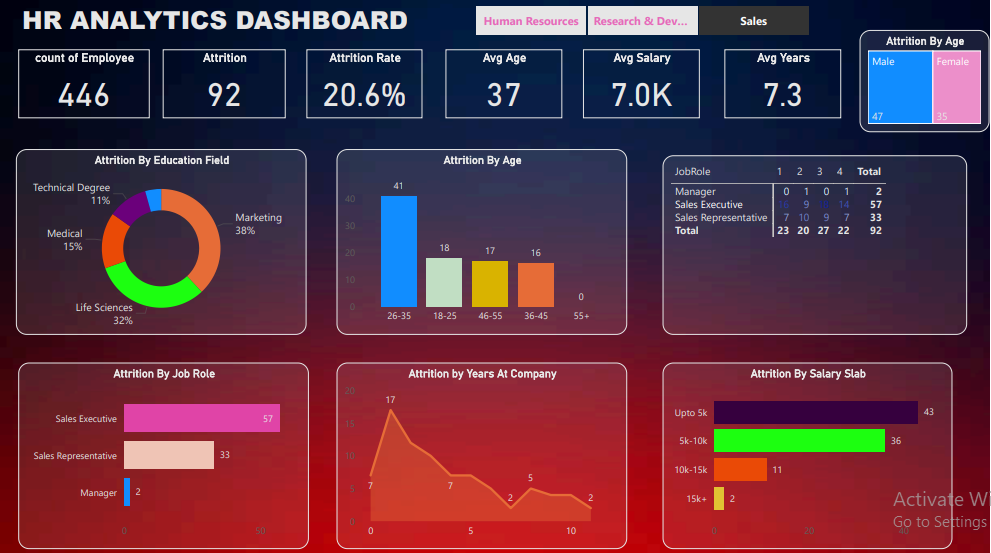

The page's visual inventory and layout, read from the dashboard file:
{"tool":"powerbi","page":{"name":"Page 1","canvas":[1280,720],"ordinal":0},"visuals":[{"type":"card","title":"count of Employee","fields":{"Values":["CountNonNull(HR_Analytics.EmpID)"]},"box":[23.1,67.2,169.7,89],"z":0},{"type":"card","title":"Attrition","fields":{"Values":["Sum(HR_Analytics.AttritionCount)"]},"box":[209.6,67.2,159.6,89],"z":1000},{"type":"card","title":"Attrition Rate","fields":{"Values":["HR_Analytics.AttritionRate"]},"box":[396,67.2,149.5,89],"z":2000},{"type":"card","title":"Avg Age","fields":{"Values":["Avg(HR_Analytics.Age)"]},"box":[575.7,67.2,151.2,89],"z":3000},{"type":"card","title":"Avg Years","fields":{"Values":["Avg(HR_Analytics.YearsAtCompany)"]},"box":[936.9,67.2,151.2,89],"z":4000},{"type":"card","title":"Avg Salary","fields":{"Values":["Avg(HR_Analytics.MonthlyIncome)"]},"box":[753.8,67.2,151.2,89],"z":5000},{"type":"donutChart","title":"Attrition By Education Field","fields":{"Category":["HR_Analytics.EducationField"],"Y":["Sum(HR_Analytics.AttritionCount)"]},"box":[20,195.8,375.8,240.5],"z":6000},{"type":"columnChart","title":"Attrition By Age","fields":{"Category":["HR_Analytics.AgeGroup"],"Y":["Sum(HR_Analytics.AttritionCount)"]},"box":[434.9,195.8,375.8,240.5],"z":7000},{"type":"pivotTable","fields":{"Rows":["HR_Analytics.JobRole"],"Columns":["HR_Analytics.JobSatisfaction"],"Values":["Sum(HR_Analytics.AttritionCount)"]},"box":[856.8,204.5,394.6,231.8],"z":8000},{"type":"barChart","title":"Attrition By Job Role","fields":{"Category":["HR_Analytics.JobRole"],"Y":["Sum(HR_Analytics.AttritionCount)"]},"box":[22.9,472.3,375.8,240.5],"z":9000},{"type":"barChart","title":"Attrition By Salary Slab","fields":{"Category":["HR_Analytics.SalarySlab"],"Y":["Sum(HR_Analytics.AttritionCount)"]},"box":[856.6,472.3,375.8,240.5],"z":10000},{"type":"areaChart","title":"Attrition by Years At Company","fields":{"Category":["HR_Analytics.YearsAtCompany"],"Y":["Sum(HR_Analytics.AttritionCount)"]},"box":[434.7,472.3,375.8,240.5],"z":11000},{"type":"treemap","title":"Attrition By Age","fields":{"Group":["HR_Analytics.Gender"],"Values":["Sum(HR_Analytics.AttritionCount)"]},"box":[1111.5,41.8,168.5,132.5],"z":12000},{"type":"slicer","fields":{"Values":["HR_Analytics.Department"]},"box":[586.1,0,485.3,56],"z":13000},{"type":"textbox","box":[23,0,522.7,54.7],"z":14000}]}

Visuals, with their boxes in screenshot pixels (x1, y1, x2, y2), scaled from the page's 1280x720 canvas onto the 991x553 screenshot:
"count of Employee" card: bbox(18, 52, 149, 120)
"Attrition" card: bbox(162, 52, 286, 120)
"Attrition Rate" card: bbox(307, 52, 422, 120)
"Avg Age" card: bbox(446, 52, 563, 120)
"Avg Years" card: bbox(725, 52, 842, 120)
"Avg Salary" card: bbox(584, 52, 701, 120)
"Attrition By Education Field" donutChart: bbox(15, 150, 306, 335)
"Attrition By Age" columnChart: bbox(337, 150, 628, 335)
pivotTable - HR_Analytics.JobRole x HR_Analytics.JobSatisfaction: bbox(663, 157, 969, 335)
"Attrition By Job Role" barChart: bbox(18, 363, 309, 547)
"Attrition By Salary Slab" barChart: bbox(663, 363, 954, 547)
"Attrition by Years At Company" areaChart: bbox(337, 363, 628, 547)
"Attrition By Age" treemap: bbox(861, 32, 990, 134)
slicer - HR_Analytics.Department: bbox(454, 0, 829, 43)
textbox: bbox(18, 0, 422, 42)
